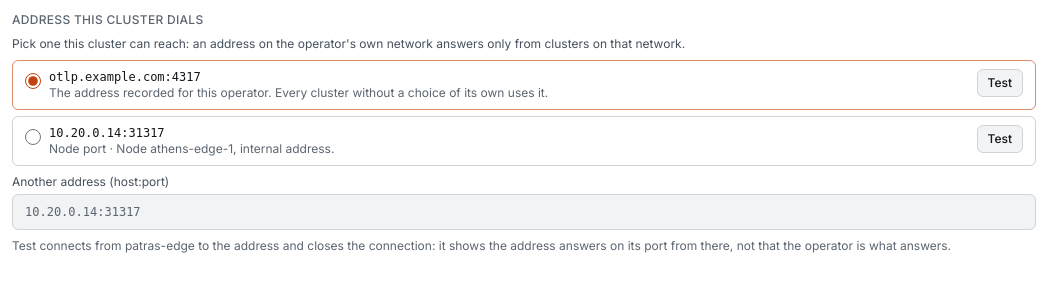
trying an address from the cluster that will dial it › says plainly when every attempt failed, and shows a refusal from the server
Expected: the radio button labelled "10.20.0.14:31317" is shown, [25, 129, 41, 145]
What coordinates should you click on to do the following:
click the button with aria-label "Test otlp.example.com:4317 from this cluster"
I would click on:
 (1000, 83)
Its box is [976, 69, 1023, 97].
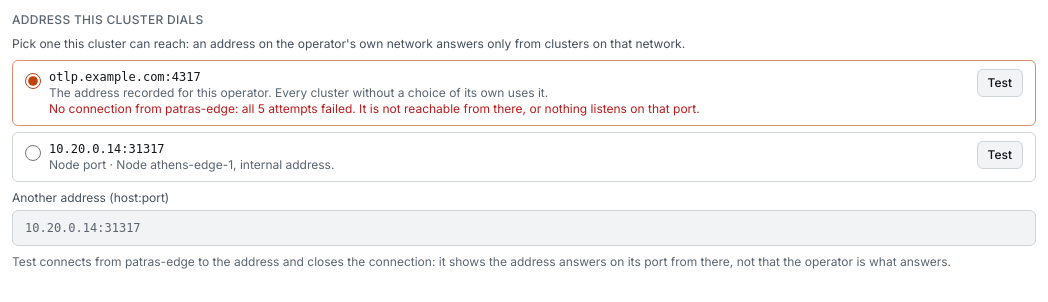
Now the text with test id "sa-result" shows "all 5 attempts failed", box [49, 101, 700, 116]
What coordinates should you click on to do the following:
click the button with aria-label "Test 10.20.0.14:31317 from this cluster"
I would click on:
 (1000, 155)
Its box is [976, 141, 1023, 169].
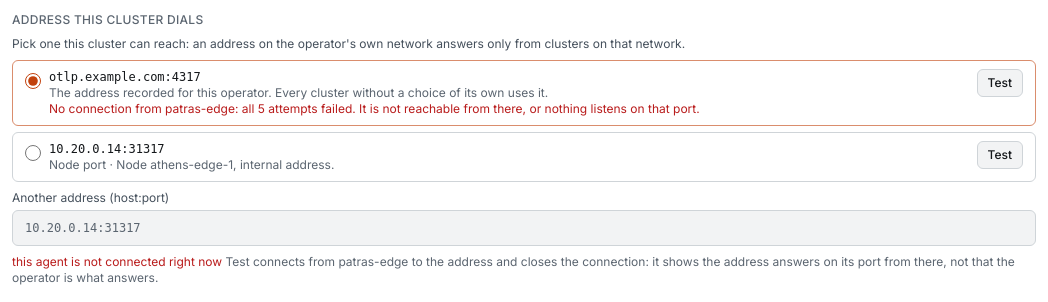
Now the message shows "not connected", box [12, 254, 222, 269]
